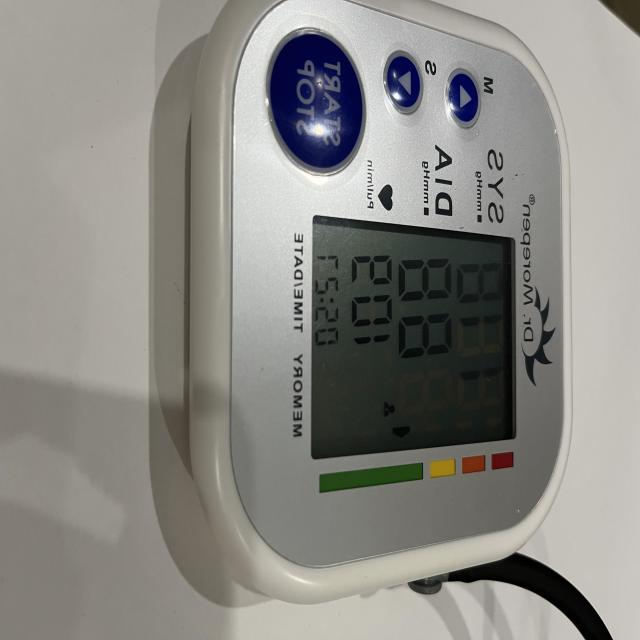bp: (148, 0, 640, 640)
